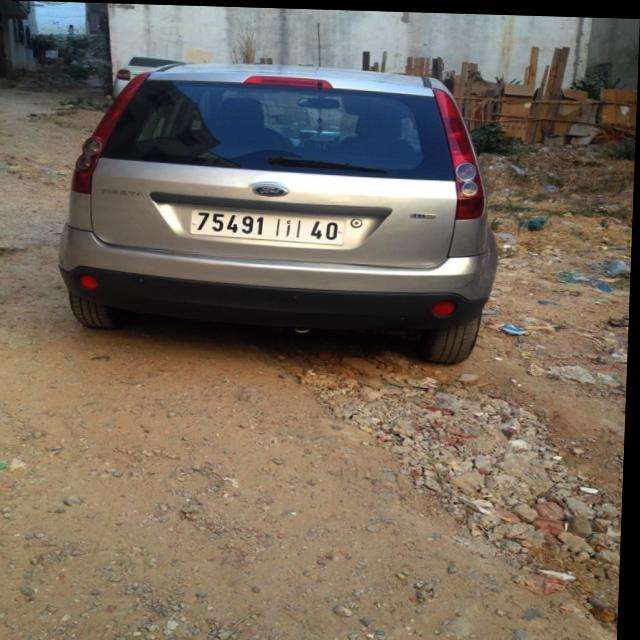License-Plate: (192, 208, 346, 243)
